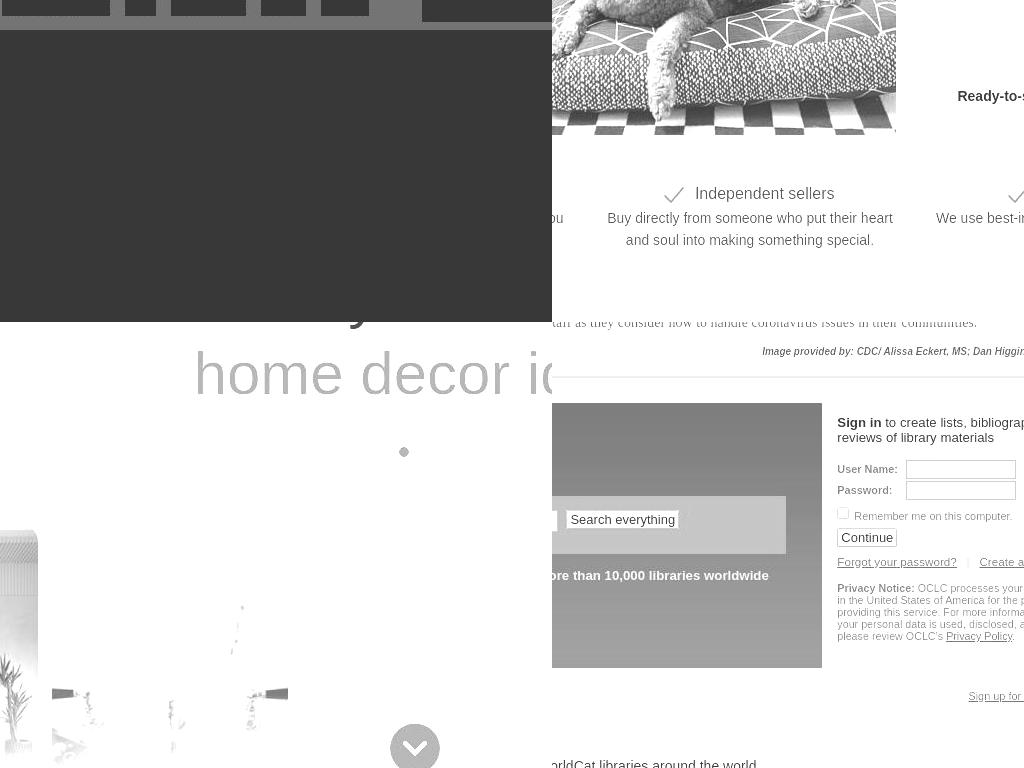button: (552, 0, 897, 136), (390, 736, 440, 768)
field: (422, 0, 552, 22), (566, 509, 680, 529), (906, 460, 1017, 479), (906, 481, 1017, 500), (837, 528, 898, 547), (837, 507, 851, 520)
heading: (552, 413, 787, 444), (552, 567, 769, 583), (682, 185, 834, 202), (957, 88, 1024, 104)
image: (0, 46, 552, 322), (0, 651, 552, 768), (552, 322, 1024, 441), (0, 38, 552, 127), (52, 604, 288, 768), (0, 496, 38, 768), (922, 322, 1023, 377), (403, 749, 427, 768)
label: (854, 510, 1013, 522), (837, 463, 899, 475), (837, 484, 893, 496)
link: (2, 0, 110, 16), (837, 555, 957, 568), (171, 0, 246, 16), (946, 630, 1013, 642), (321, 0, 369, 16), (261, 0, 306, 16), (968, 690, 1024, 702), (979, 555, 1024, 568), (125, 0, 156, 16)
text: (193, 376, 552, 446), (125, 322, 552, 370), (601, 206, 899, 251), (837, 582, 1024, 642), (762, 340, 1024, 363), (837, 415, 1024, 445), (934, 206, 1024, 251), (552, 758, 952, 768), (552, 322, 978, 330), (837, 582, 915, 594), (837, 415, 882, 430), (956, 555, 980, 568), (1012, 630, 1016, 642)
